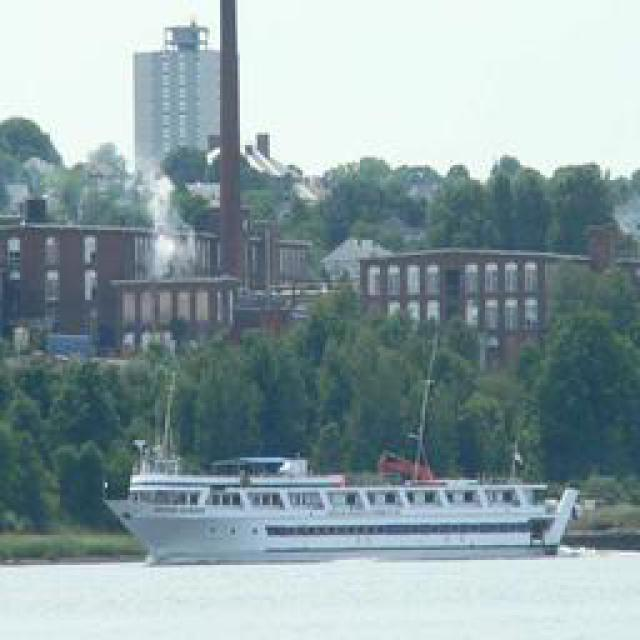Ship: (124, 458, 579, 566)
